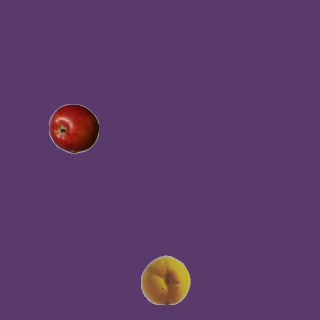Apple Braeburn: (48, 103, 98, 153)
Peach 2: (140, 254, 190, 304)
